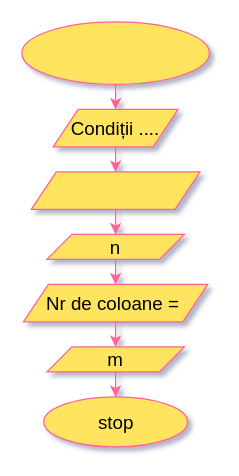
Image size: 239x476. Some labels were removed from this diagram. The centre of each missing label's shape, as x and y in pixels:
"meniu(int *n,int *m)" belongs at [115,52].
"Nr de rânduri =" belongs at [115,190].
